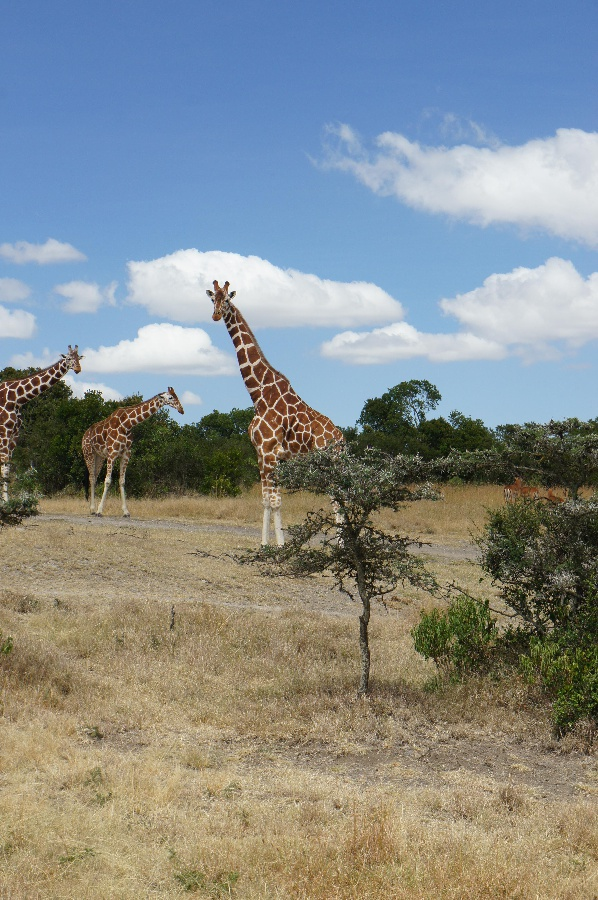giraffe: (198, 273, 372, 567), (73, 379, 188, 528), (0, 341, 84, 505)
